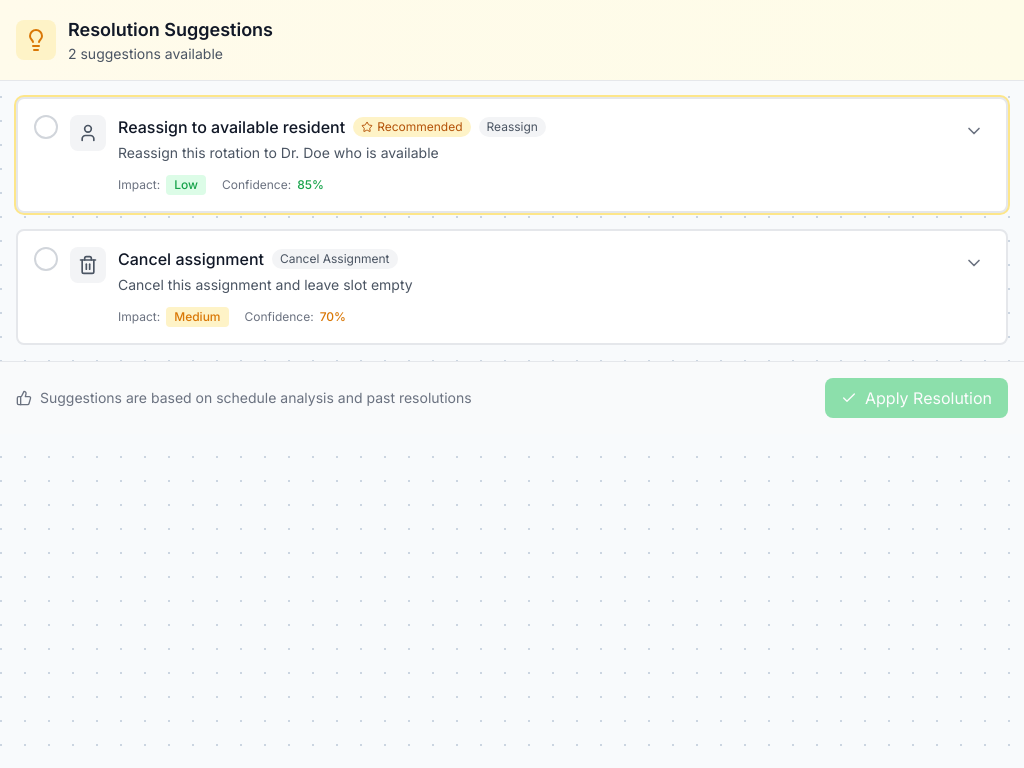
Scenario: ConflictResolutionSuggestions › Suggestion Expansion › should expand suggestion when chevron clicked
This screenshot has width=1024, height=768.
Expected: the heading "Reassign to available resident" is shown, left=118, top=115, right=345, bottom=139
Click the button named "Expand" in the row of "Recommended".
click(974, 131)  # box left=958, top=115, right=990, bottom=147
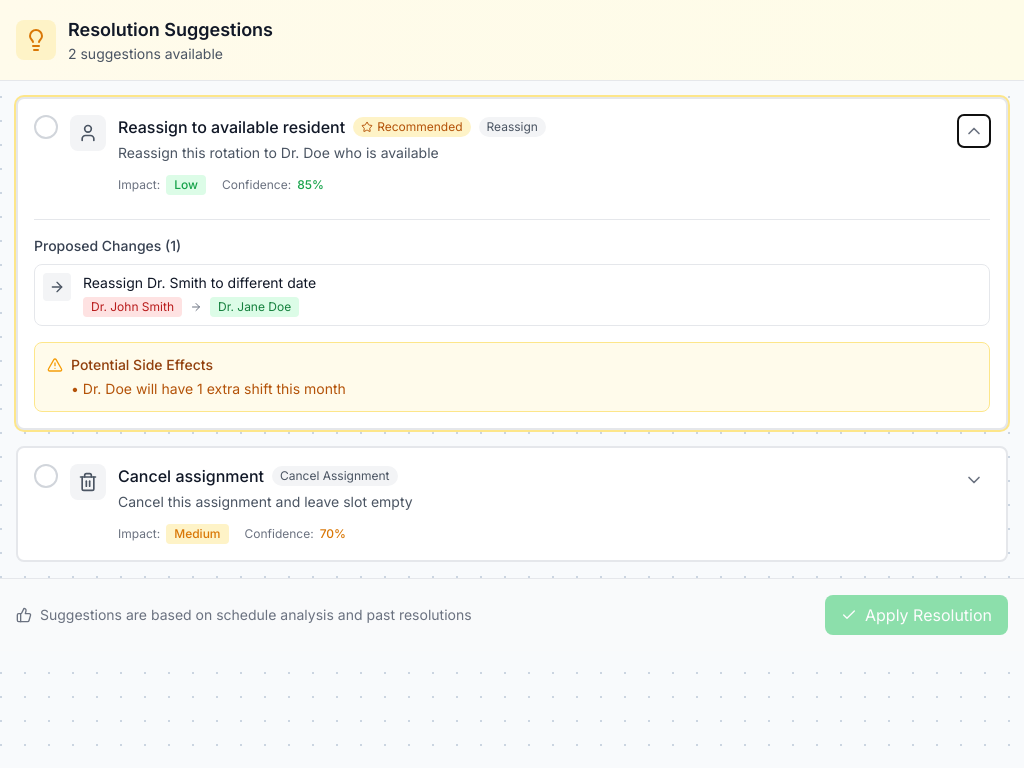
Expected: the heading "Proposed Changes (1)" is shown, left=34, top=237, right=181, bottom=254
